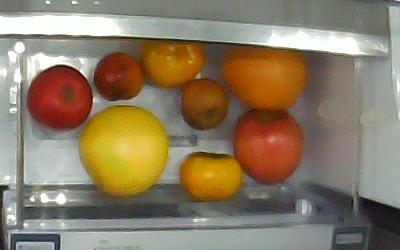apple: (233, 109, 303, 186), (27, 65, 93, 129)
grapefruit: (78, 105, 169, 196), (220, 45, 307, 111)
persimmon: (179, 151, 243, 201), (140, 39, 206, 86)
prune: (177, 78, 228, 128), (94, 52, 144, 102)
